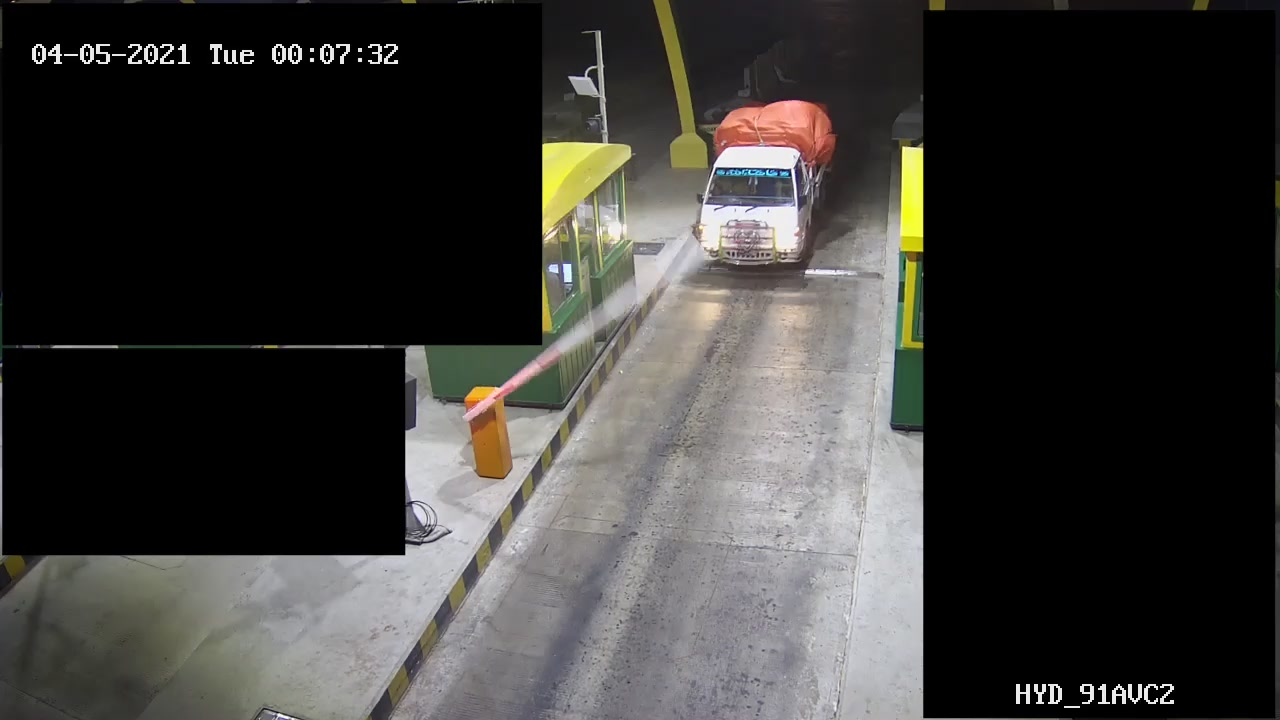F2: (688, 97, 848, 281)
